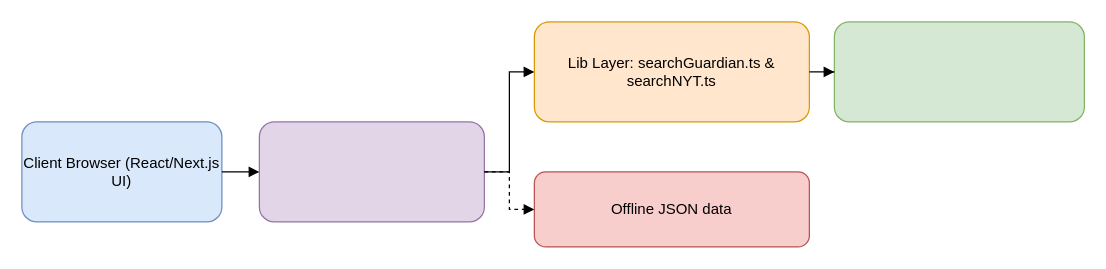
Image size: 1106x269. Some labels were removed from this diagram. Each missing label, with the box of its shape:
External APIs: Guardian API & NYT API: (833, 21, 1084, 122)
Next.js API Route (search.ts): (258, 121, 484, 222)
